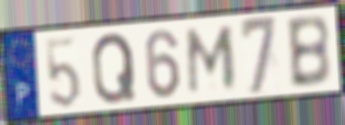5: (43, 34, 84, 109)
6: (143, 27, 182, 101)
7: (238, 13, 279, 98)
B: (284, 12, 333, 91)
M: (186, 23, 238, 97)
Q: (91, 30, 139, 107)
